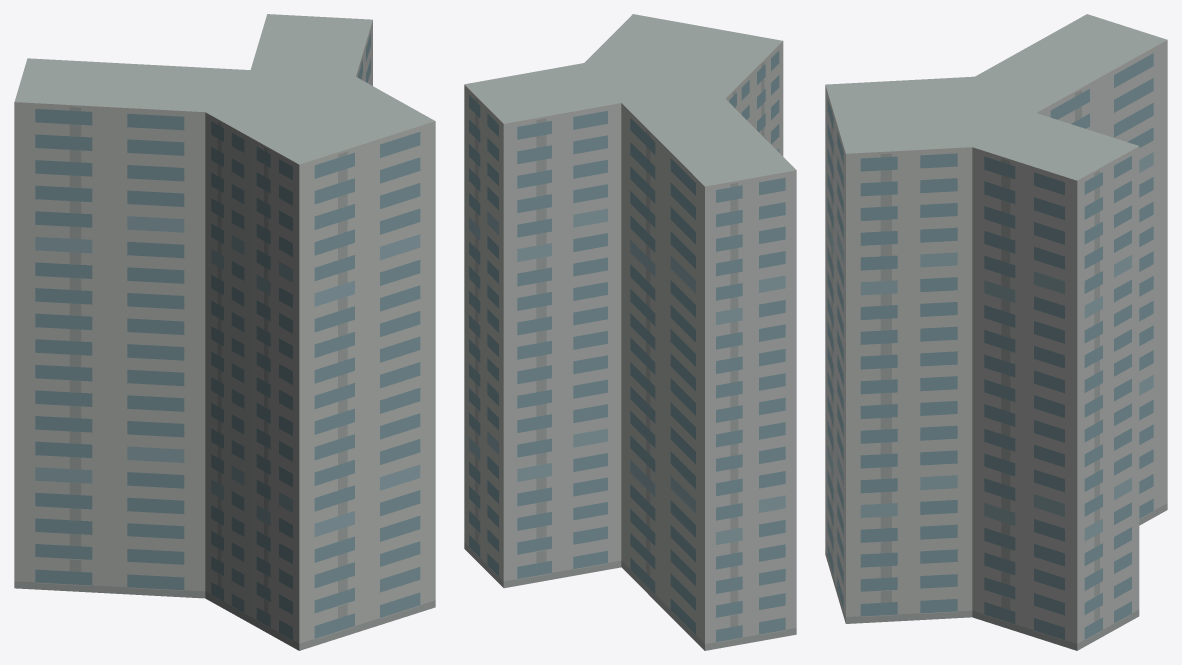
File: residential-56ef35dc-49b5-4ee2-a457-174b9d72dcc2.glb
The picture shows the model from 3 angles, left to right: view 1: azimuth 30°, elevation 25°; view 2: azimuth 150°, elevation 25°; view 3: azimuth 270°, elevation 25°; orthographic projection. The views are drawn at different scales.
Visible parts, largest first — view 1: residential-56ef35dc-49b5-4ee2-a457-174b9d72dcc2.tmp; view 2: residential-56ef35dc-49b5-4ee2-a457-174b9d72dcc2.tmp; view 3: residential-56ef35dc-49b5-4ee2-a457-174b9d72dcc2.tmp.
Part boxes in pixels (bbox=[...]): residential-56ef35dc-49b5-4ee2-a457-174b9d72dcc2.tmp: bbox=[14, 14, 435, 650]; residential-56ef35dc-49b5-4ee2-a457-174b9d72dcc2.tmp: bbox=[464, 14, 796, 650]; residential-56ef35dc-49b5-4ee2-a457-174b9d72dcc2.tmp: bbox=[825, 14, 1167, 650].
Size of the model in its own units: 41.08 by 54 by 35.62.
